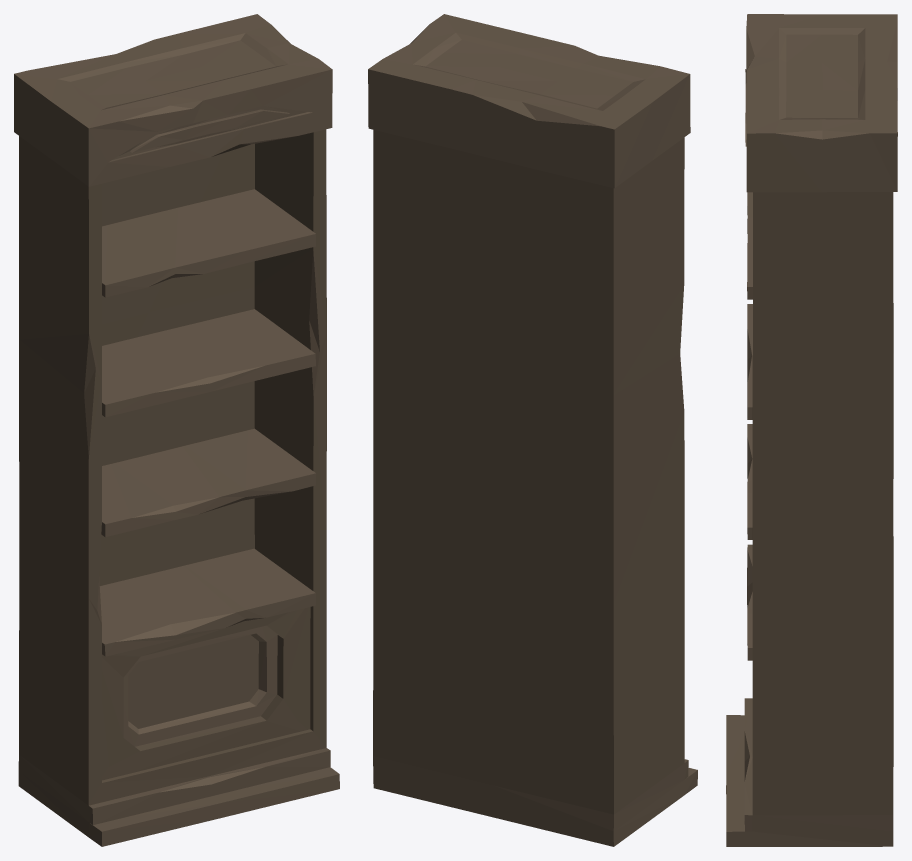
File: SFHW_Shelving_006.fbx
3 renders of one model, left to right at view 1: azimuth 30°, elevation 25°; view 2: azimuth 150°, elevation 25°; view 3: azimuth 270°, elevation 25°, orthographic.
Parts seen in each view (by area): view 1: SFHW_Shelving_006; view 2: SFHW_Shelving_006; view 3: SFHW_Shelving_006.
Part boxes in pixels (box(x1,y1,x2,y2)): SFHW_Shelving_006: box(14, 14, 339, 846); SFHW_Shelving_006: box(368, 14, 697, 846); SFHW_Shelving_006: box(726, 14, 897, 846).
Bounding box in the file's own units: 103 × 287 × 62.53.
